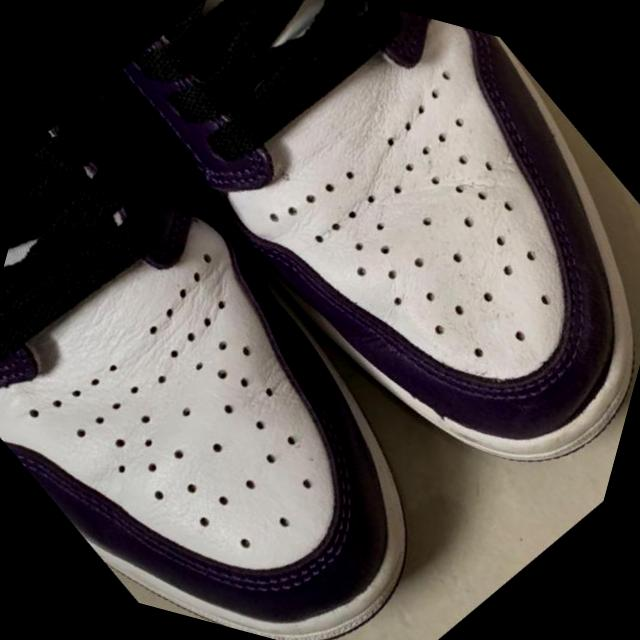nike_original_jordan: (21, 0, 640, 559), (0, 64, 575, 640)
